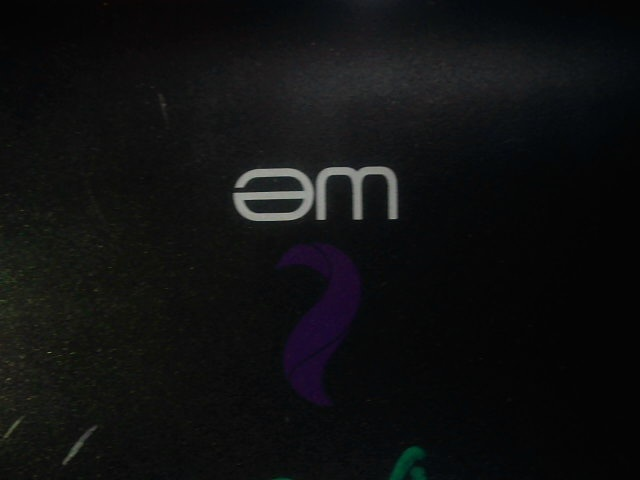AT_We: (219, 157, 410, 418)
